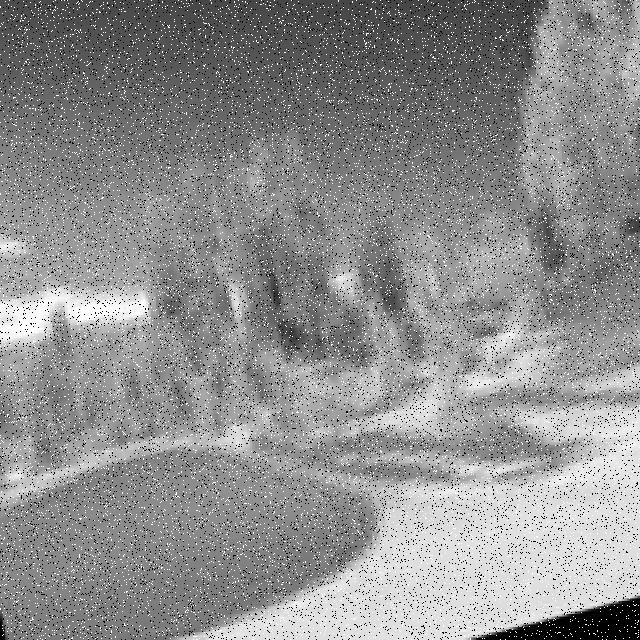ice-road: (182, 407, 640, 640)
